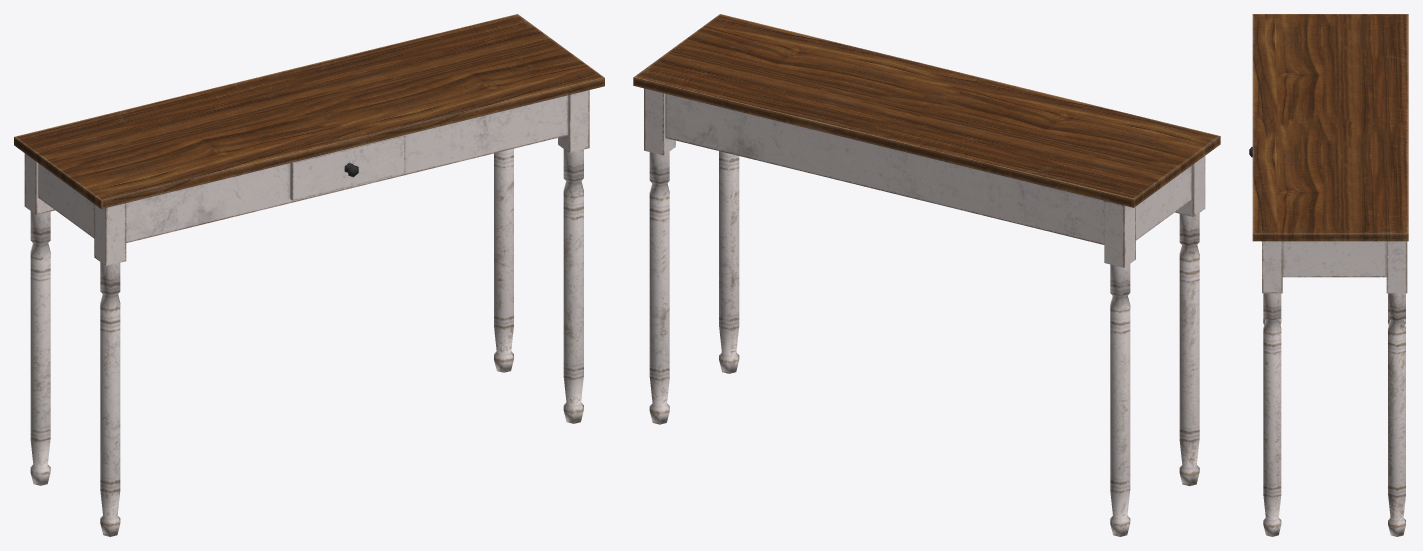
File: console_table.FBX
3 renders of one model, left to right at view 1: azimuth 30°, elevation 25°; view 2: azimuth 150°, elevation 25°; view 3: azimuth 270°, elevation 25°, orthographic. The views are drawn at different scales.
Visible parts, largest first — view 1: countertop, base, leg_1, leg_2, leg_3, drawer, leg_4; view 2: countertop, base, leg_3, leg_4, leg_1, leg_2; view 3: countertop, leg_2, leg_4, base.
Boxes of the visible parts, x1=… form: countertop: x1=14, y1=14, x2=604, y2=208; base: x1=38, y1=95, x2=568, y2=242; leg_1: x1=94, y1=203, x2=126, y2=536; leg_2: x1=558, y1=90, x2=589, y2=423; leg_3: x1=24, y1=153, x2=54, y2=485; drawer: x1=290, y1=135, x2=405, y2=200; leg_4: x1=494, y1=148, x2=513, y2=372; countertop: x1=633, y1=14, x2=1220, y2=207; base: x1=665, y1=93, x2=1191, y2=244; leg_3: x1=1104, y1=201, x2=1135, y2=536; leg_4: x1=644, y1=88, x2=675, y2=424; leg_1: x1=1175, y1=156, x2=1205, y2=486; leg_2: x1=719, y1=151, x2=739, y2=373; countertop: x1=1252, y1=14, x2=1408, y2=241; leg_2: x1=1262, y1=241, x2=1282, y2=536; leg_4: x1=1386, y1=241, x2=1407, y2=536; base: x1=1282, y1=241, x2=1386, y2=277.
Bounding box in the file's own units: 49.21 × 32.28 × 15.06.
